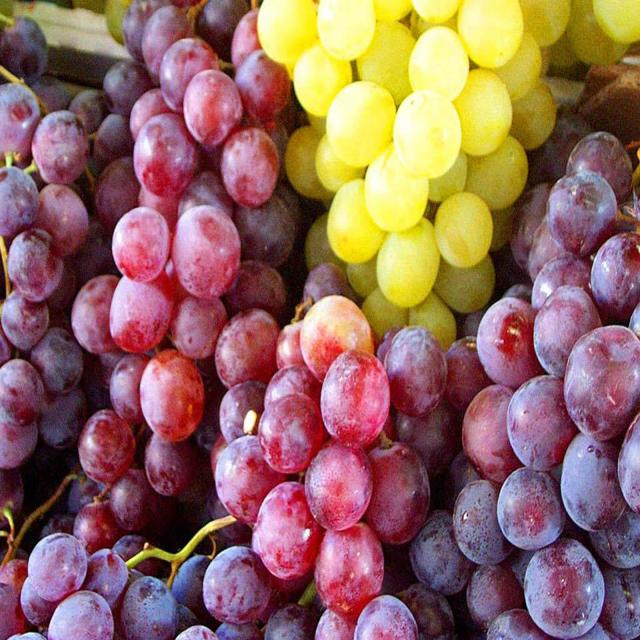Grapes: (351, 147, 640, 640), (52, 12, 296, 489), (262, 0, 574, 306), (192, 306, 457, 634)
